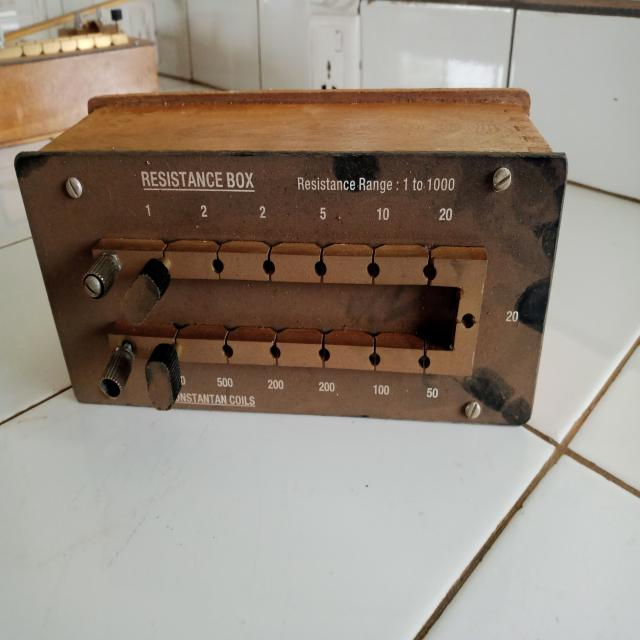Pinned Resistance Box: (8, 62, 570, 434)
